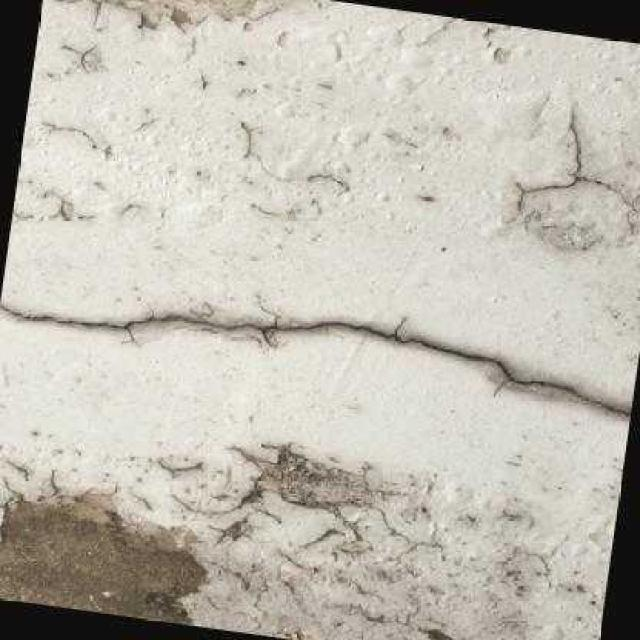D00: (0, 302, 631, 413)
